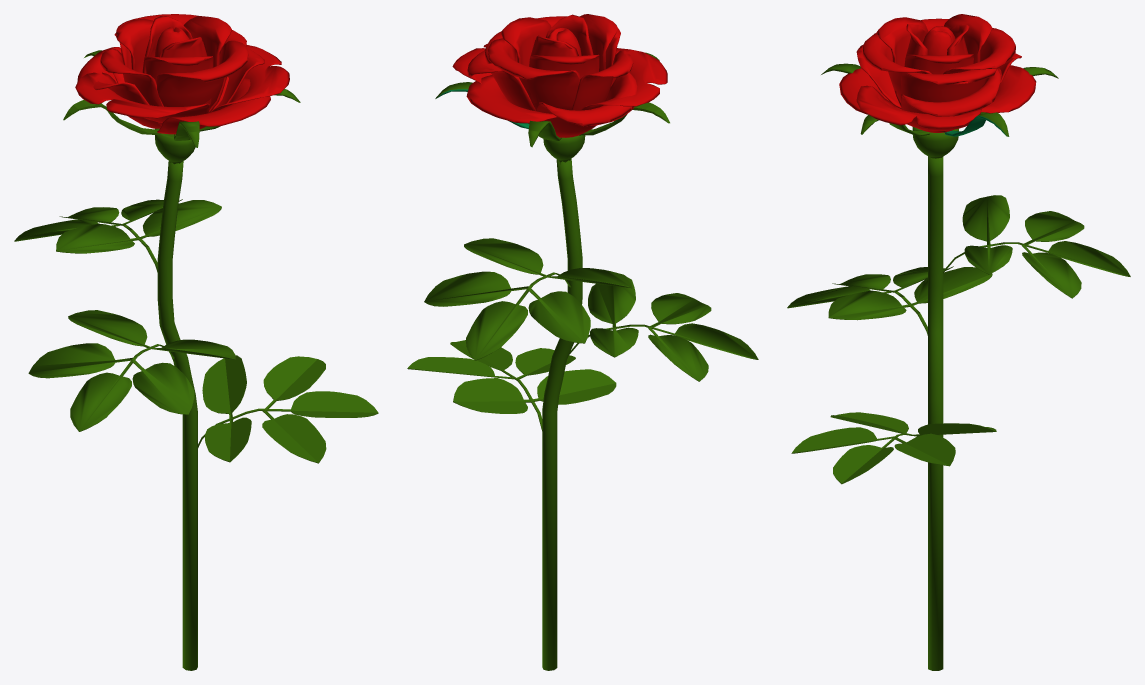
File: Rose.FBX
3 views of the same model, side by side, from view 1: azimuth 30°, elevation 25°; view 2: azimuth 150°, elevation 25°; view 3: azimuth 270°, elevation 25° (orthographic).
Visible parts, largest first — view 1: Flower, object #23, object #22, object #24, object #21, object #25, object #2, object #7; view 2: Flower, object #21, object #24, object #22, object #23, object #2, object #25, object #7; view 3: Flower, object #24, object #21, object #23, object #22, object #2, object #25.
Part boxes in pixels (x1,y1,x2,y2): Flower: [75, 14, 289, 134]; object #23: [197, 355, 378, 463]; object #22: [28, 310, 235, 431]; object #24: [157, 161, 197, 670]; object #21: [14, 199, 221, 272]; object #25: [155, 128, 195, 164]; object #2: [84, 50, 300, 147]; object #7: [63, 100, 161, 135]; Flower: [452, 14, 667, 137]; object #21: [424, 238, 632, 360]; object #24: [542, 158, 582, 670]; object #22: [567, 278, 758, 381]; object #23: [407, 340, 616, 430]; object #2: [435, 52, 659, 147]; object #25: [543, 135, 585, 164]; object #7: [579, 102, 669, 135]; Flower: [839, 14, 1036, 132]; object #24: [928, 156, 943, 670]; object #21: [943, 195, 1130, 298]; object #23: [791, 412, 996, 484]; object #22: [787, 266, 992, 335]; object #2: [821, 63, 1058, 136]; object #25: [912, 127, 958, 158].
Size of the model in its own units: 8.37 by 17.04 by 8.36.
